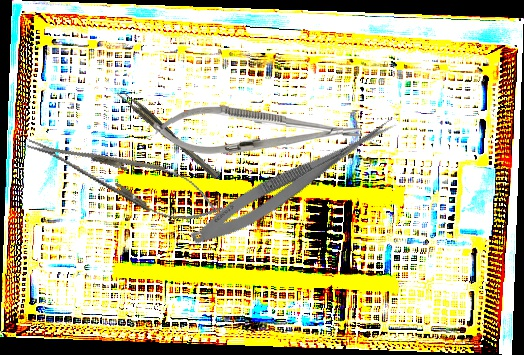Micro Scissor: (185, 104, 402, 256)
Needle Holder: (18, 118, 230, 236), (152, 104, 363, 159)
Tissue Forceps: (115, 86, 220, 183)
